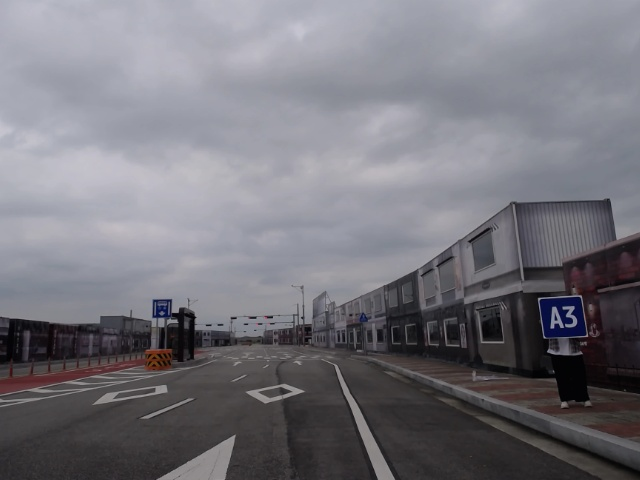delivery_a3: (539, 296, 588, 338)
